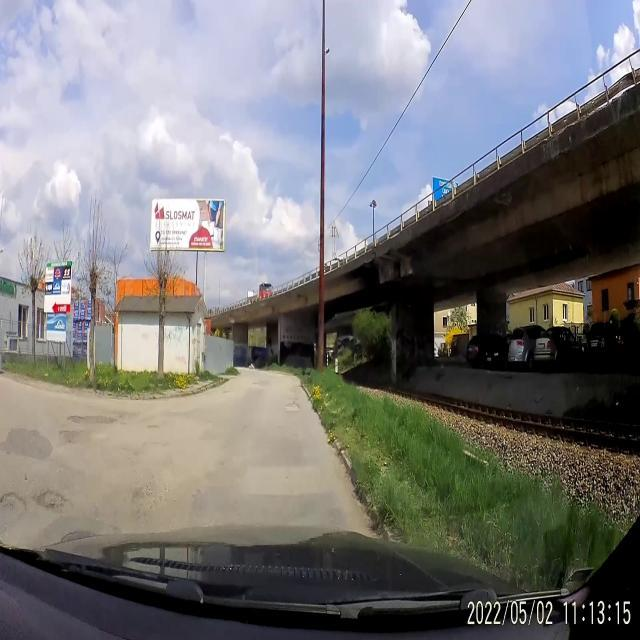Pothole: (26, 483, 75, 521), (64, 406, 120, 428), (54, 428, 86, 458), (284, 388, 300, 412), (142, 424, 166, 436)
